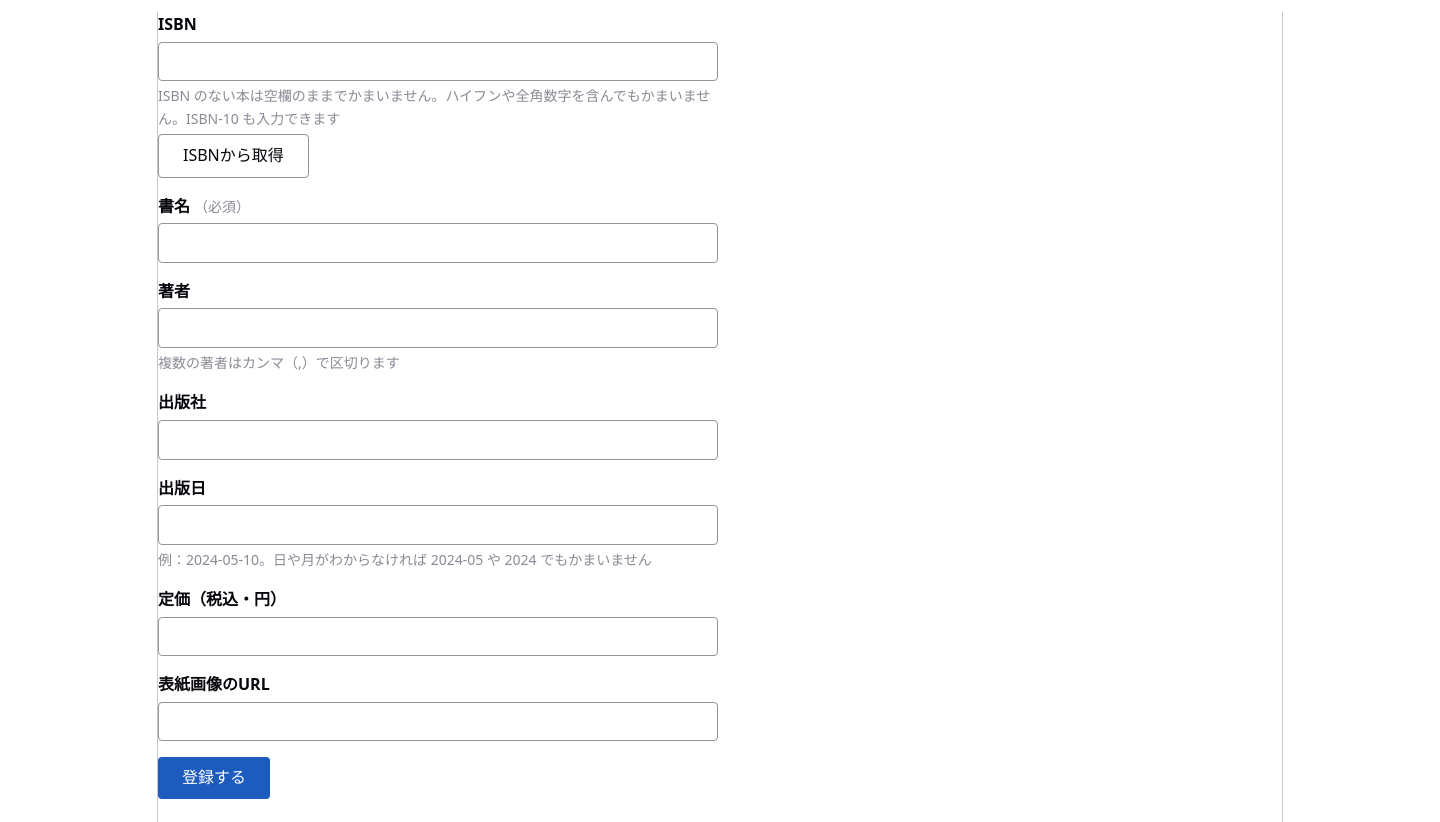
Test case: BookForm の ISBNからの取得 › ISBN欄に入力したままの値で取得し、結果を入力欄に入れる
Type "4-480-68321-6" into the field labelled "ISBN" at (438, 61), box [158,42,718,81]
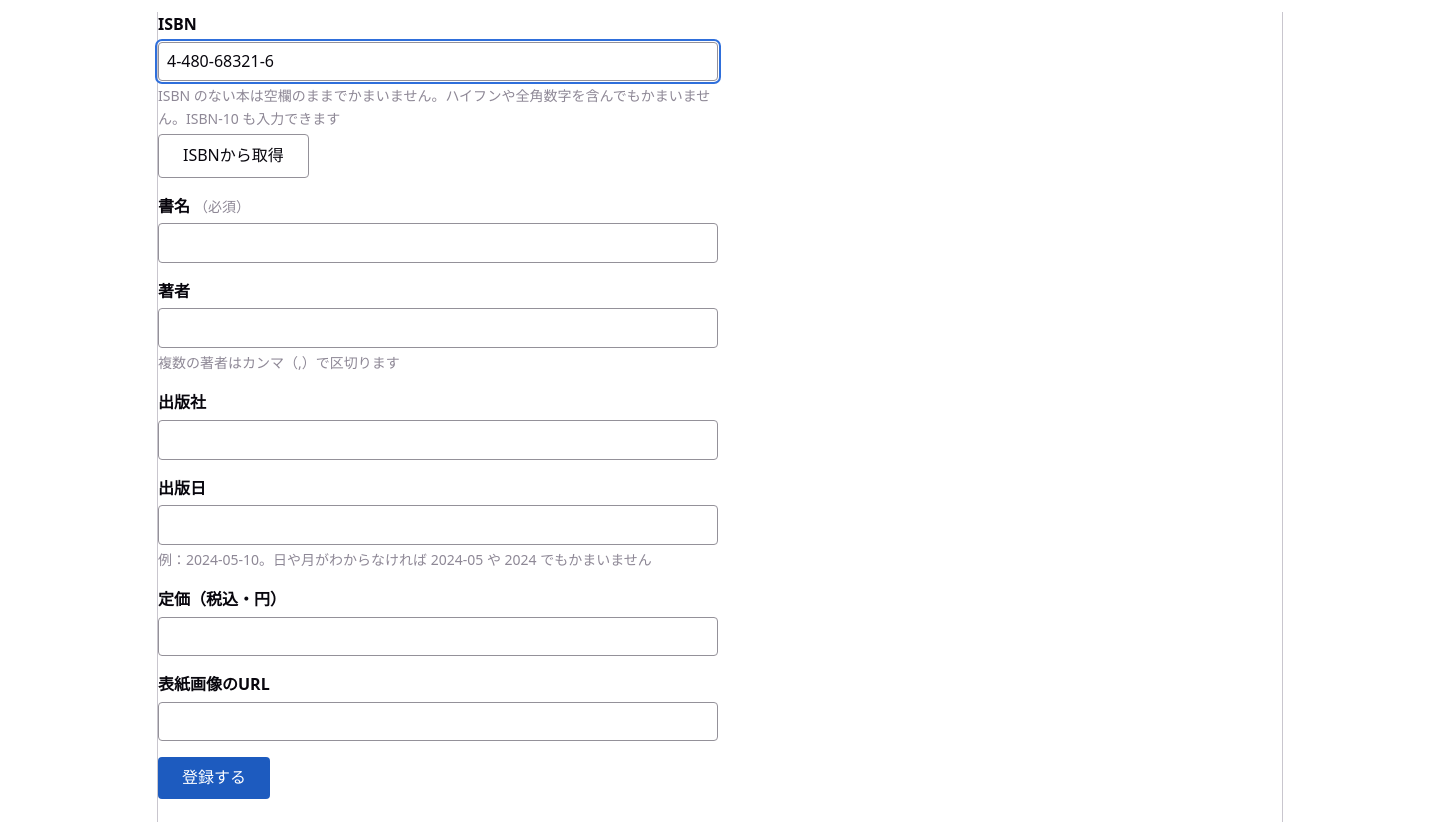
Click the button "ISBNから取得" at (233, 156), box [158,134,309,178]
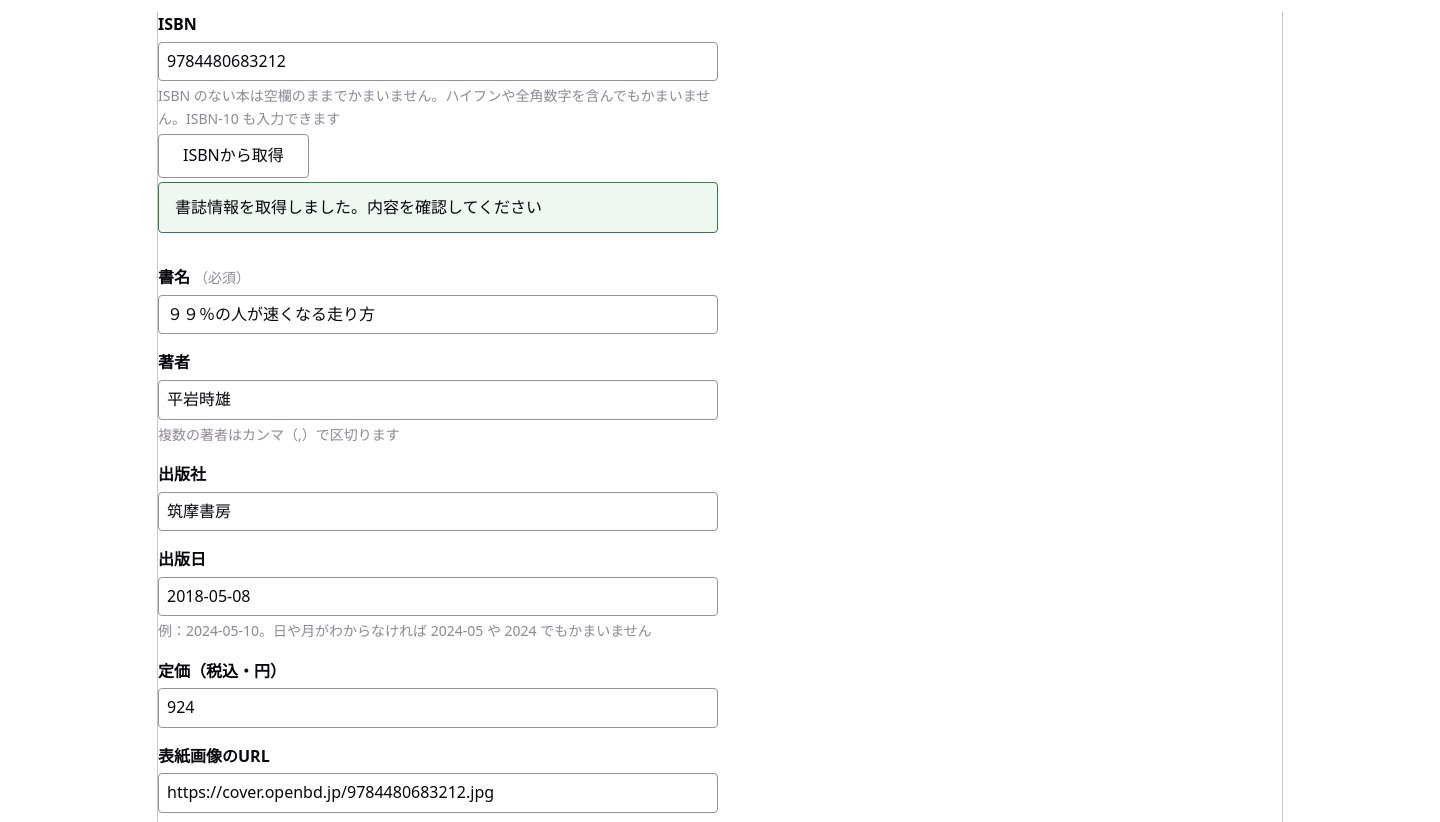
Now the message reads "書誌情報を取得しました。内容を確認してください", box [175,196,542,218]
Now the field labelled "ISBN" holds "9784480683212", box [158,42,718,81]
Now the field labelled "書名（必須）" holds "９９％の人が速くなる走り方", box [158,295,718,334]
